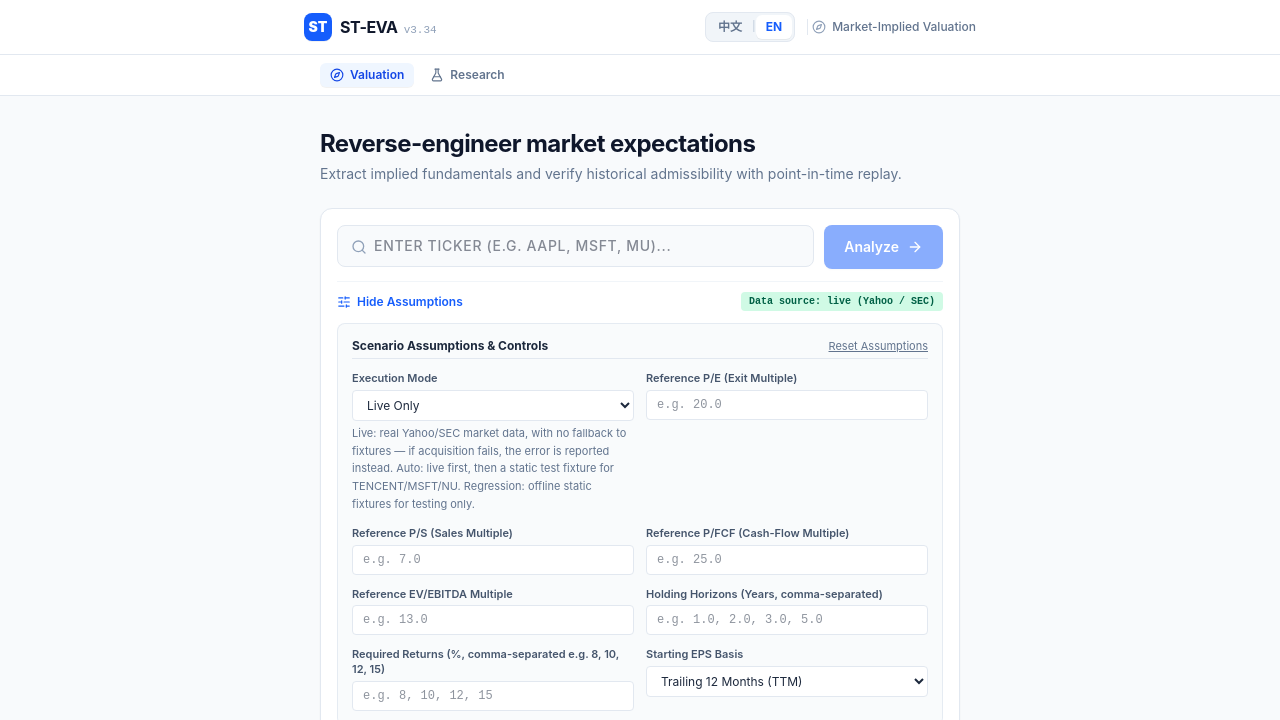
Test: ST-EVA Frontend App Component › renders completed analysis with valuation and MATCH replay status
The width and height of the screenshot is (1280, 720).
Step 1. Type "MSFT" into the field with placeholder "Enter ticker (e.g. AAPL, MSFT, MU)..." → (576, 246), box left=337, top=225, right=814, bottom=267
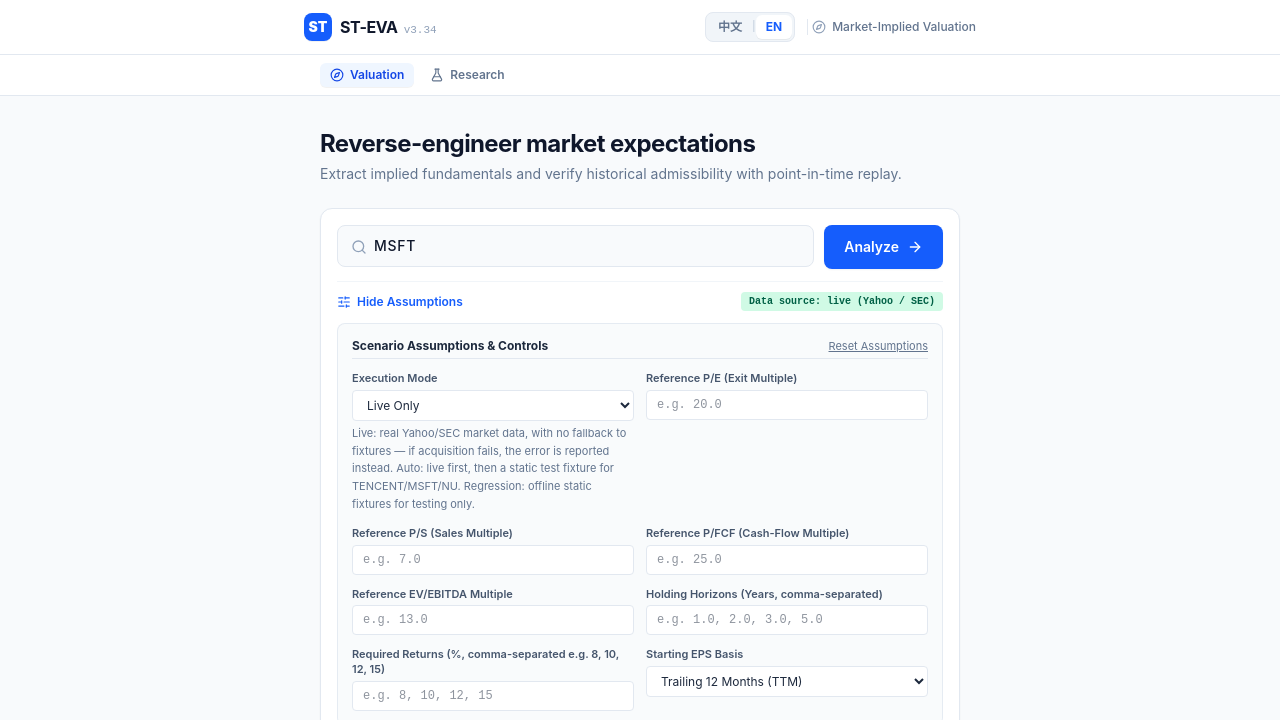
Step 2. Click the button "Analyze" → (884, 247), box left=824, top=225, right=943, bottom=269
(page scrolled)
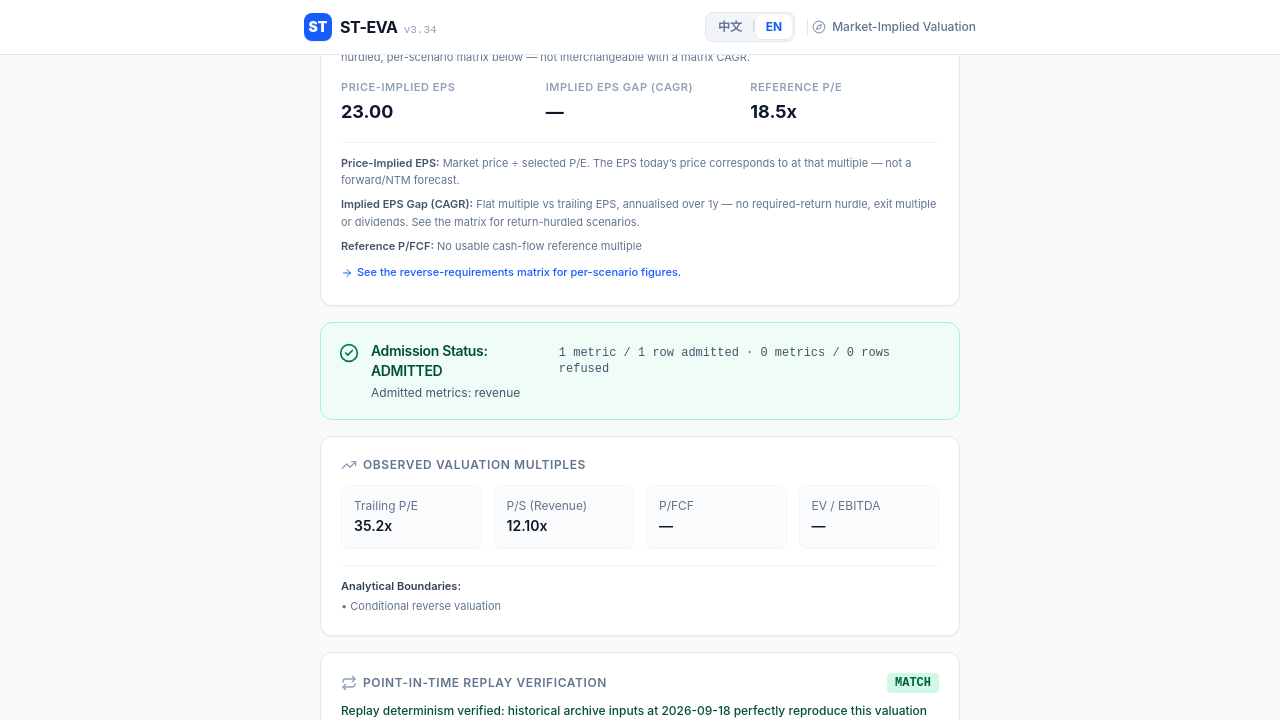
Expected: the text "Admission Status: ADMITTED" is shown, left=371, top=342, right=488, bottom=379
